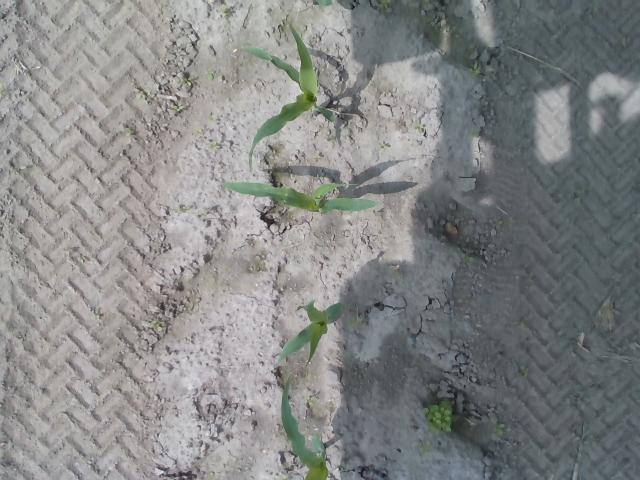Maize: (242, 21, 340, 172), (221, 177, 382, 216), (279, 378, 330, 480), (277, 299, 344, 368)
Weeds: (422, 399, 453, 434), (190, 126, 206, 140), (150, 320, 166, 333), (468, 62, 481, 77), (304, 393, 316, 408), (418, 442, 433, 453), (414, 120, 426, 133), (494, 422, 506, 434), (208, 142, 221, 153), (378, 0, 390, 10), (174, 103, 184, 112), (207, 71, 215, 80)
